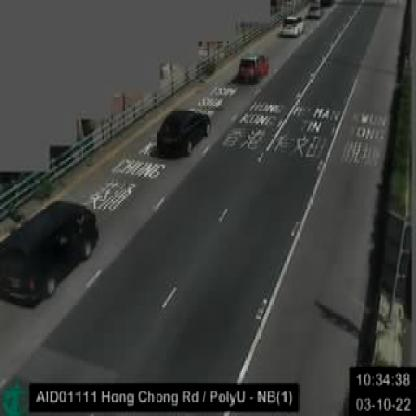Car: (0, 201, 98, 307), (154, 109, 210, 153), (235, 50, 270, 80), (278, 14, 303, 36), (308, 5, 322, 19)
